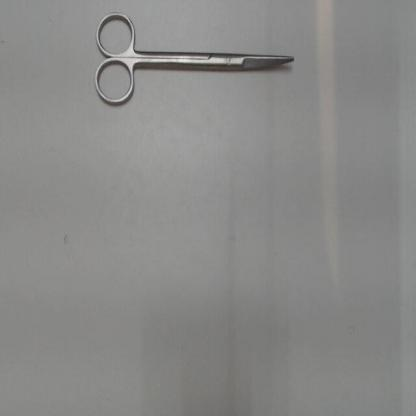Curved Mayo Scissors: (90, 9, 300, 114)
